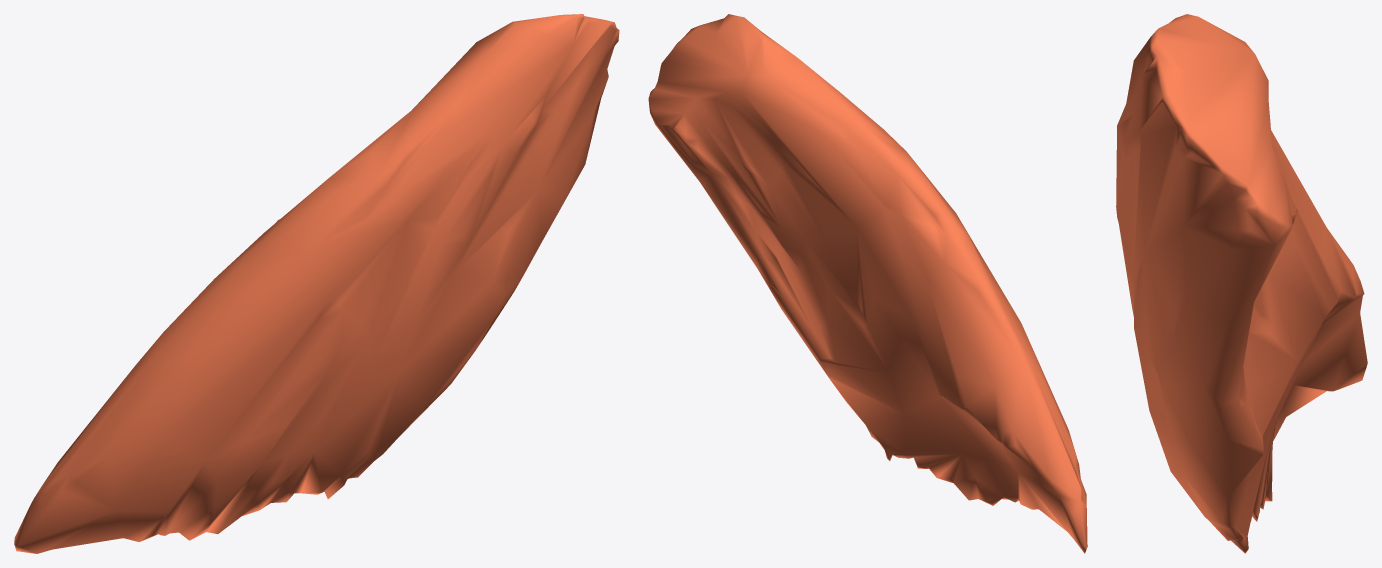
File: Rectus_anterior_capitis_muscle.r_Generated_Mesh_From_X3D.247.glb
3 renders of one model, left to right at view 1: azimuth 30°, elevation 25°; view 2: azimuth 150°, elevation 25°; view 3: azimuth 270°, elevation 25°, orthographic. The views are drawn at different scales.
Parts seen in each view (by area): view 1: Rectus_anterior_capitis_muscle.r_Generated_Mesh_From_X3D.247; view 2: Rectus_anterior_capitis_muscle.r_Generated_Mesh_From_X3D.247; view 3: Rectus_anterior_capitis_muscle.r_Generated_Mesh_From_X3D.247.
Part boxes in pixels (x1,y1,x2,y2): Rectus_anterior_capitis_muscle.r_Generated_Mesh_From_X3D.247: (14,14,619,553); Rectus_anterior_capitis_muscle.r_Generated_Mesh_From_X3D.247: (648,14,1087,553); Rectus_anterior_capitis_muscle.r_Generated_Mesh_From_X3D.247: (1116,14,1367,553).
Bounding box in the file's own units: 0.025 × 0.0203 × 0.00669.
